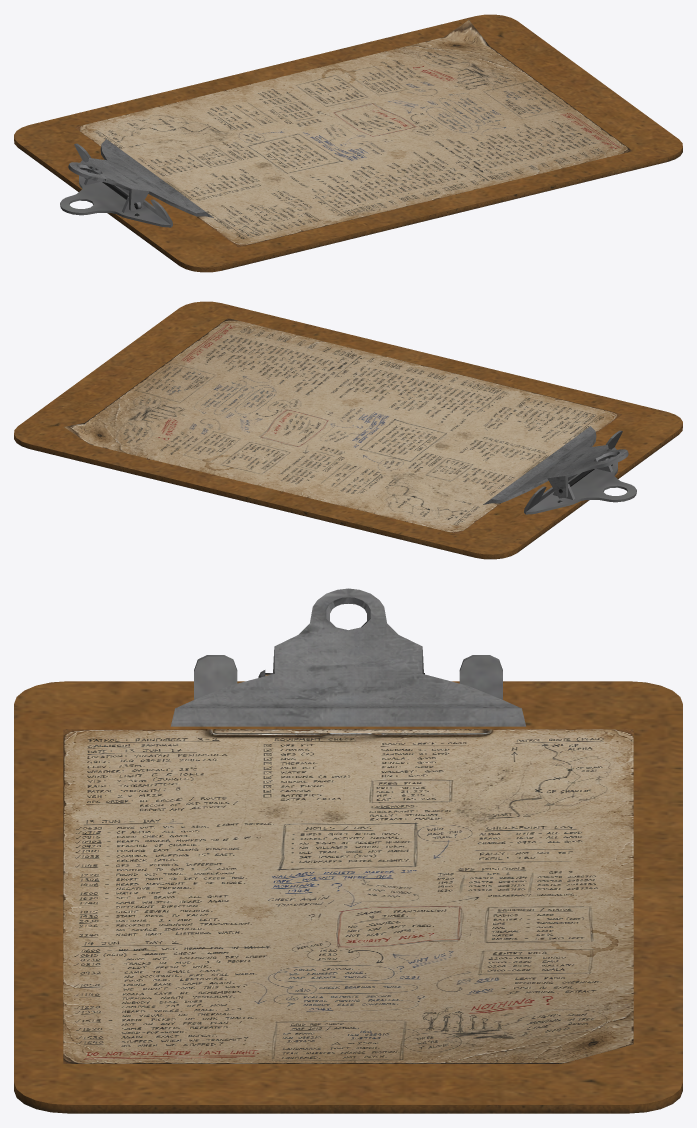
Rendered from clipboard_B.fbx.
The picture shows the model from 3 angles, top to bottom: view 1: azimuth 30°, elevation 25°; view 2: azimuth 150°, elevation 25°; view 3: azimuth 270°, elevation 25°; orthographic projection. The views are drawn at different scales.
Visible parts, largest first — view 1: Object_49; view 2: Object_49; view 3: Object_49.
Part boxes in pixels (x1=…): Object_49: x1=14, y1=14, x2=682, y2=272; Object_49: x1=14, y1=301, x2=682, y2=559; Object_49: x1=14, y1=588, x2=682, y2=1113.
Bounding box in the file's own units: 36.41 × 2.95 × 22.67.
